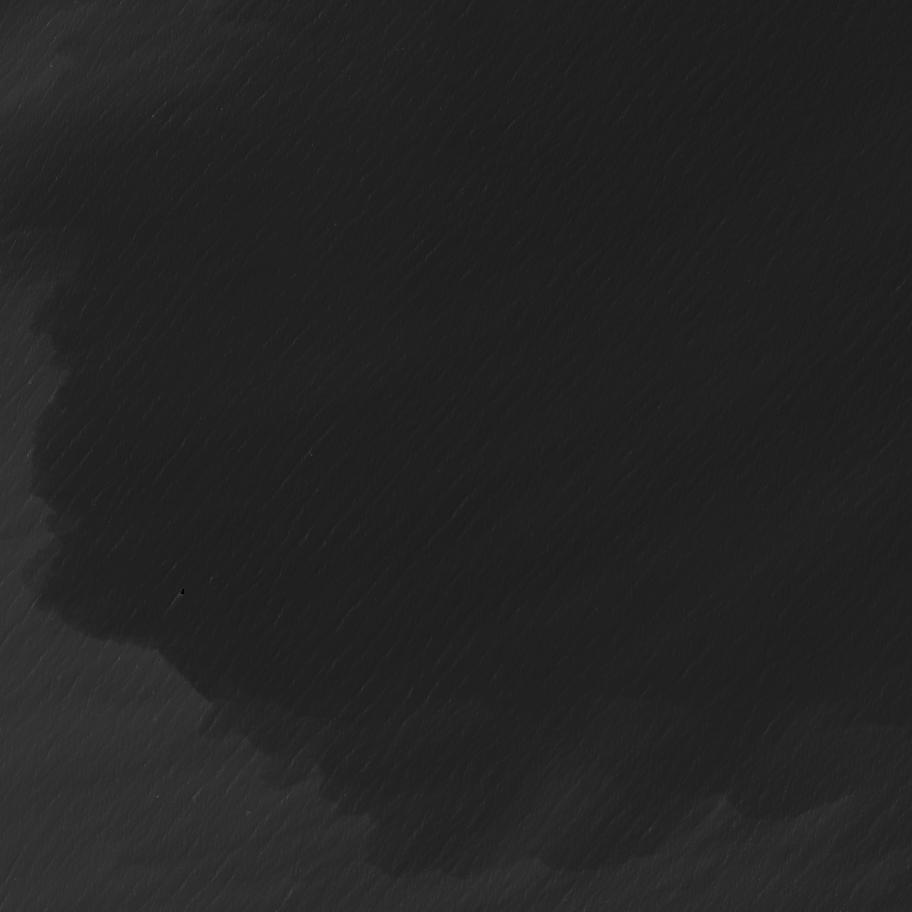ship: (180, 589, 184, 595)
